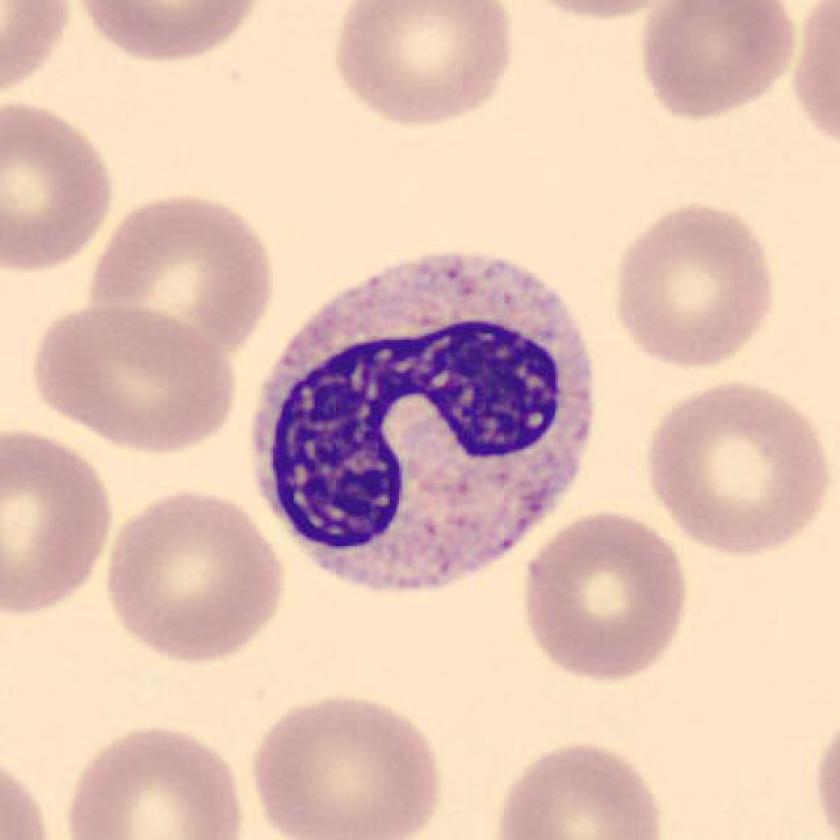neutrophil: (253, 256, 593, 590)
